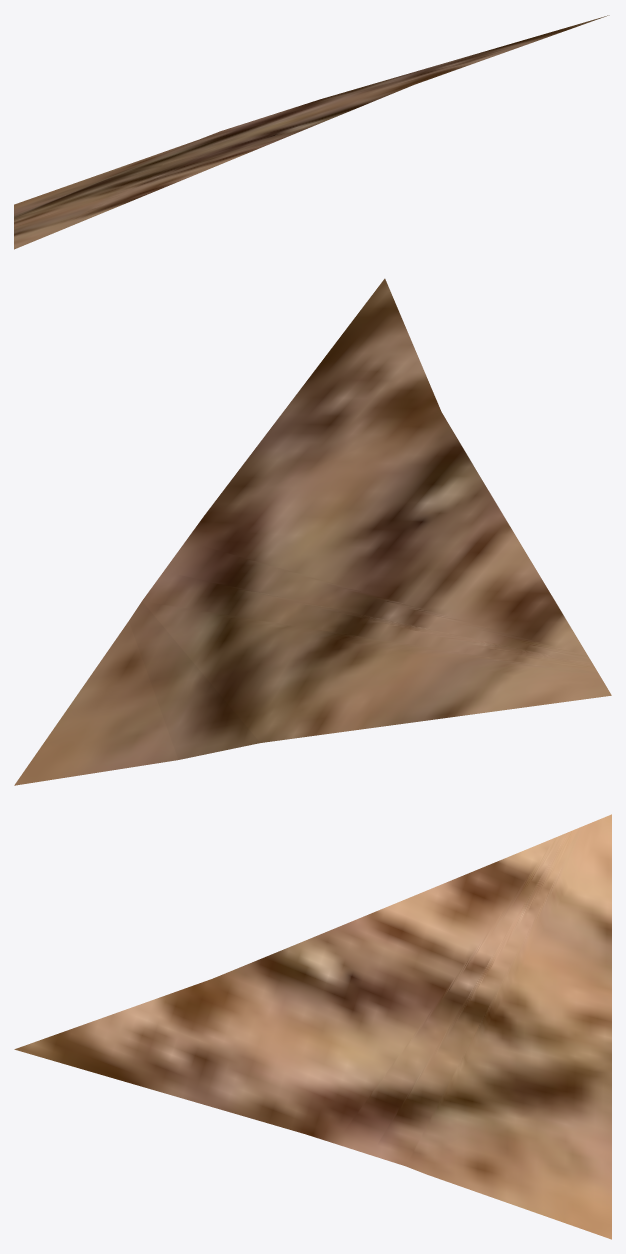
The picture shows the model from 3 angles, top to bottom: view 1: azimuth 90°, elevation 25°; view 2: azimuth 150°, elevation 25°; view 3: azimuth 270°, elevation 25°; orthographic projection. The views are drawn at different scales.
Bounding box in the file's own units: 0.1319 × 0.0497 × 0.1417.
Materials: 1 (1 with a texture image).
